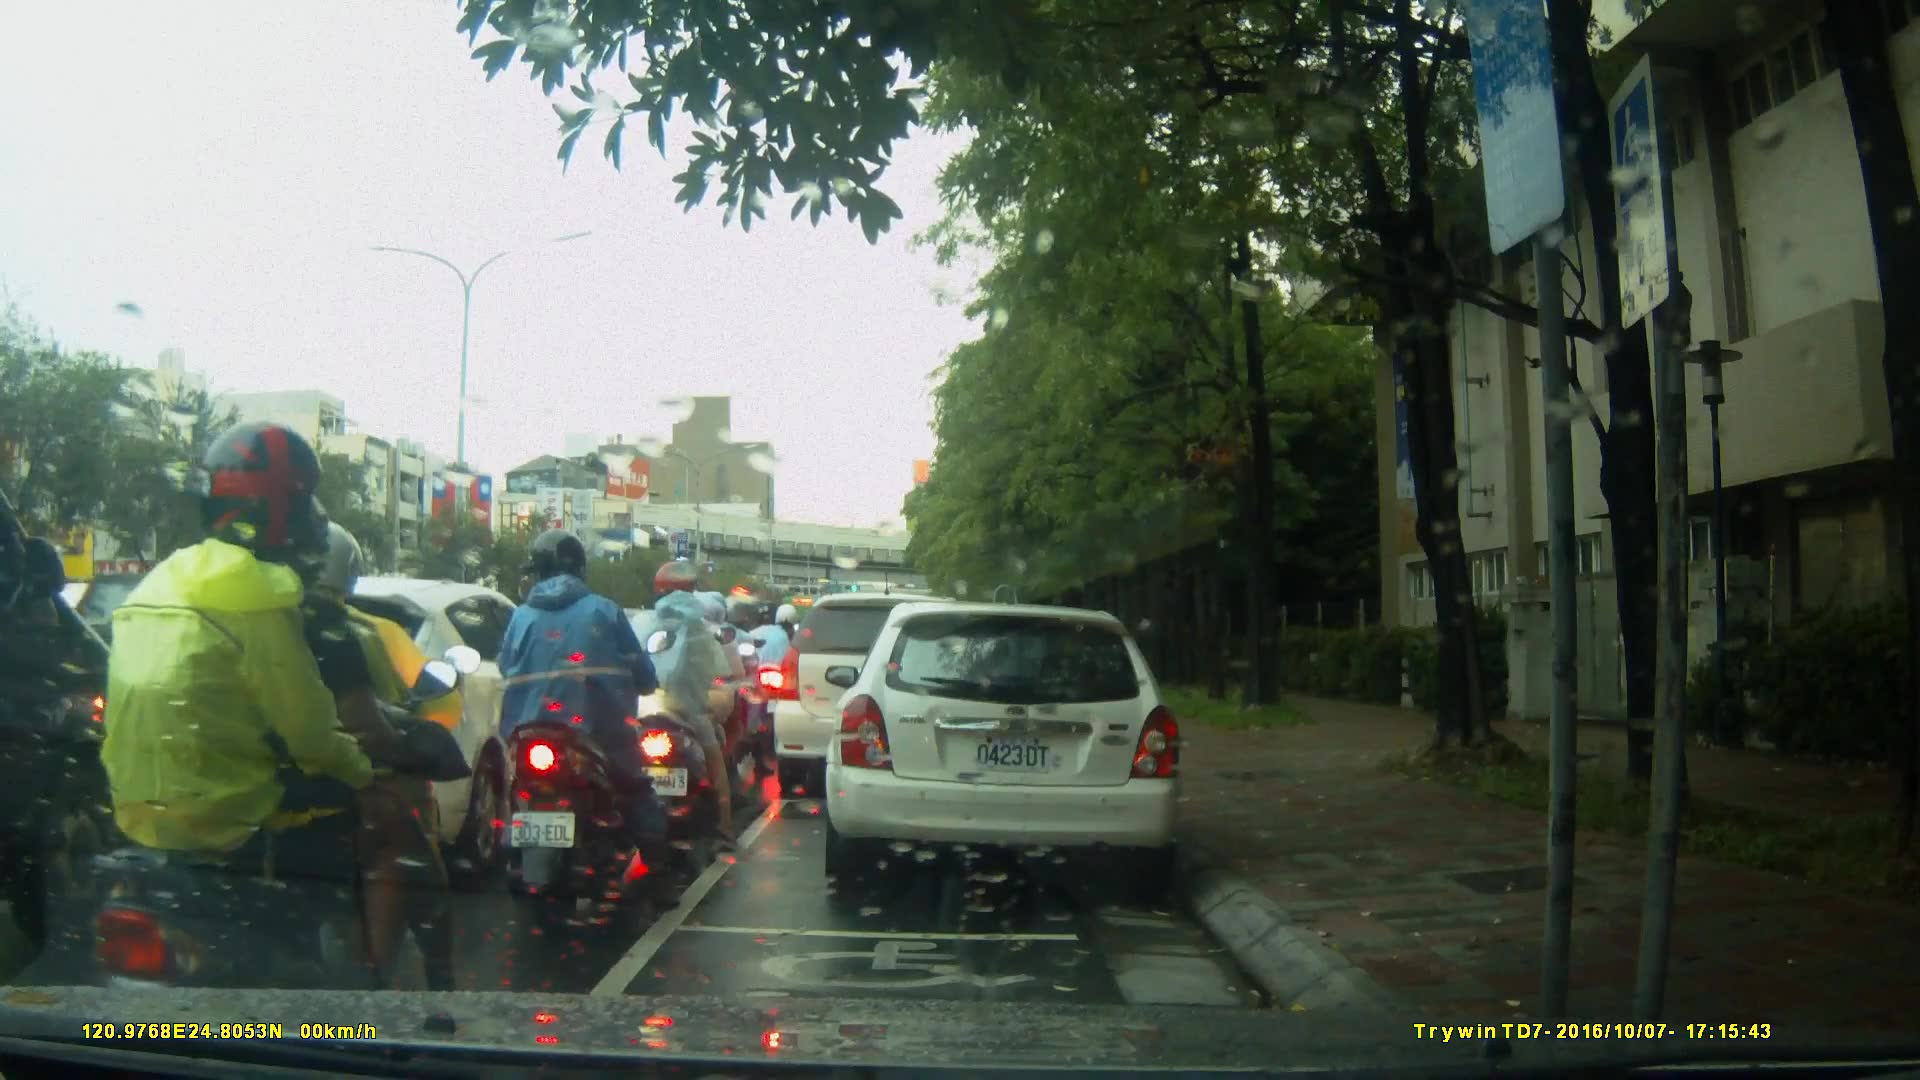rider: (85, 427, 474, 1037), (232, 523, 479, 1008), (499, 529, 682, 909), (614, 560, 737, 841), (660, 586, 761, 817), (741, 599, 798, 748)
vehicle: (199, 576, 606, 858), (822, 604, 1188, 883), (774, 595, 995, 802)
